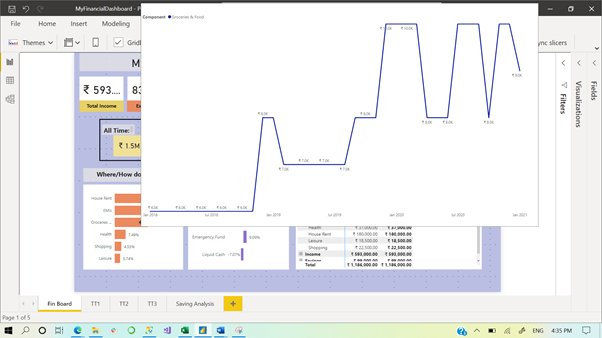

What the dashboard file says about the page in this screenshot:
{"tool":"powerbi","page":{"name":"Fin Board","canvas":[1280,720],"ordinal":0},"visuals":[{"type":"card","fields":{"Values":["FinData.Total Income"]},"box":[15.5,71.5,132,74.6],"z":0},{"type":"card","fields":{"Values":["FinData.Expense %"]},"box":[160,71.5,132,74.6],"z":1000},{"type":"card","fields":{"Values":["FinData.Saving %"]},"box":[302.9,71.5,132,74.6],"z":2000},{"type":"card","fields":{"Values":["FinData.Total Saving"]},"box":[445.8,71.5,132,74.6],"z":3000},{"type":"textbox","box":[445.8,144.5,132,37.3],"z":4000},{"type":"textbox","title":"Saving %","box":[302.9,144.5,132,37.3],"z":5000},{"type":"textbox","box":[158.4,144.5,133.6,34.2],"z":6000},{"type":"textbox","box":[15.5,144.5,132,34.2],"z":7000},{"type":"slicer","fields":{"Values":["FinData.Year"]},"box":[706.8,1.6,248.5,54.4],"z":8000},{"type":"slicer","fields":{"Values":["FinData.Date"]},"box":[967.8,0,254.8,55.9],"z":9000},{"type":"card","fields":{"Values":["FinData.Total Income"]},"box":[116.5,248.5,95,63.7],"z":10000},{"type":"card","fields":{"Values":["FinData.Expense %"]},"box":[219,248.5,94.8,65.2],"z":11000},{"type":"card","fields":{"Values":["FinData.Saving %"]},"box":[326.2,250.1,94.8,63.7],"z":12000},{"type":"card","fields":{"Values":["FinData.Total Saving"]},"box":[433.4,250.1,94.8,63.7],"z":13000},{"type":"textbox","box":[83.9,215.9,97.9,31.1],"z":14000},{"type":"card","fields":{"Values":["FinData.Title"]},"box":[15.5,1.6,649.3,54.4],"z":15000},{"type":"clusteredBarChart","fields":{"Category":["FinData.Component"],"Y":["FinData.Total Expense"]},"box":[26.4,396.1,299.8,256.3],"z":16000},{"type":"textbox","box":[27.4,347.4,297.1,41.1],"z":17000},{"type":"clusteredBarChart","fields":{"Category":["FinData.Component"],"Y":["FinData.Total Saving"]},"box":[341.7,396.1,302.9,256.3],"z":18000},{"type":"textbox","box":[341.7,348,302.9,40.4],"z":19000},{"type":"lineChart","fields":{"Y":["FinData.Expense %","FinData.Saving %","FinData.Income Change MoM %","FinData.Saving Targets"],"Category":["FinData.Date"]},"box":[664.9,118.1,557.7,242.3],"z":20000},{"type":"textbox","box":[664.9,71.5,557.7,37.3],"z":21000},{"type":"pivotTable","fields":{"Values":["FinData.Value Measure"],"Columns":["FinData.Year","FinData.Date"],"Rows":["FinData.Type","FinData.Component"]},"box":[664.9,421,557.7,231.5],"z":22000},{"type":"shape","box":[74.6,198.8,470.7,127.4],"z":23000},{"type":"textbox","box":[664.9,368.2,557.7,40.4],"z":23002}]}

Visuals, with their boxes on the page's 1280x720 design canvas (x1, y1, x2, y2). These are canvas units, not pixel positions in the 602x338 screenshot, which may show the page scaled, cropped or inside an application window:
card - FinData.Total Income: [left=16, top=72, right=148, bottom=146]
card - FinData.Expense %: [left=160, top=72, right=292, bottom=146]
card - FinData.Saving %: [left=303, top=72, right=435, bottom=146]
card - FinData.Total Saving: [left=446, top=72, right=578, bottom=146]
textbox: [left=446, top=144, right=578, bottom=182]
"Saving %" textbox: [left=303, top=144, right=435, bottom=182]
textbox: [left=158, top=144, right=292, bottom=179]
textbox: [left=16, top=144, right=148, bottom=179]
slicer - FinData.Year: [left=707, top=2, right=955, bottom=56]
slicer - FinData.Date: [left=968, top=0, right=1223, bottom=56]
card - FinData.Total Income: [left=116, top=248, right=212, bottom=312]
card - FinData.Expense %: [left=219, top=248, right=314, bottom=314]
card - FinData.Saving %: [left=326, top=250, right=421, bottom=314]
card - FinData.Total Saving: [left=433, top=250, right=528, bottom=314]
textbox: [left=84, top=216, right=182, bottom=247]
card - FinData.Title: [left=16, top=2, right=665, bottom=56]
clusteredBarChart - FinData.Component x FinData.Total Expense: [left=26, top=396, right=326, bottom=652]
textbox: [left=27, top=347, right=324, bottom=388]
clusteredBarChart - FinData.Component x FinData.Total Saving: [left=342, top=396, right=645, bottom=652]
textbox: [left=342, top=348, right=645, bottom=388]
lineChart - FinData.Expense % x FinData.Saving %: [left=665, top=118, right=1223, bottom=360]
textbox: [left=665, top=72, right=1223, bottom=109]
pivotTable - FinData.Value Measure x FinData.Year: [left=665, top=421, right=1223, bottom=652]
shape: [left=75, top=199, right=545, bottom=326]
textbox: [left=665, top=368, right=1223, bottom=409]
